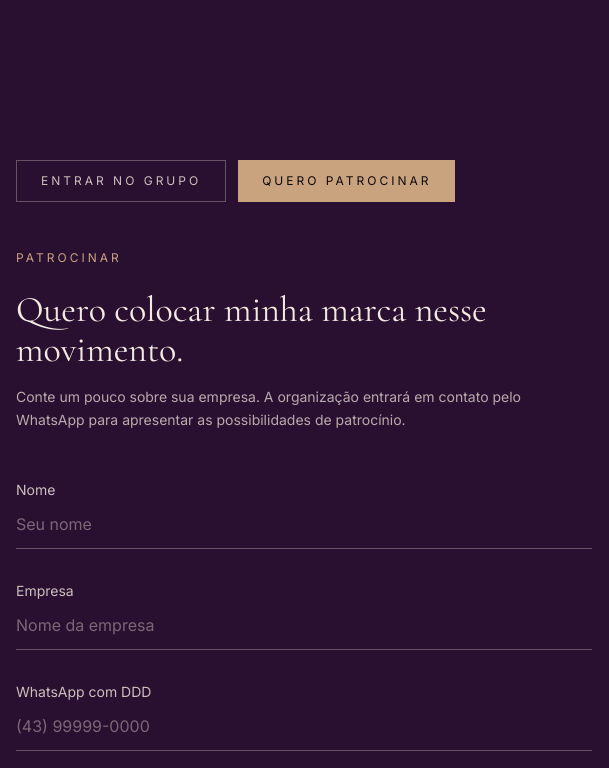
Test case: Interesse › mantém os dados preenchidos se o armazenamento falha
Type "Ana" into the field labelled "Nome".
click(304, 524); type("Ana")  # box [16,500,592,548]
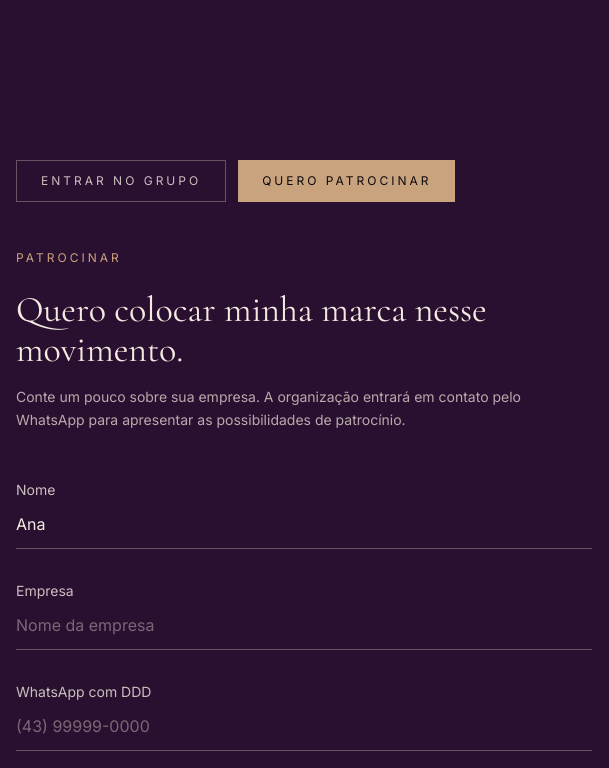
Type "Decol" into the field labelled "Empresa".
click(304, 625); type("Decol")  # box [16,600,592,650]
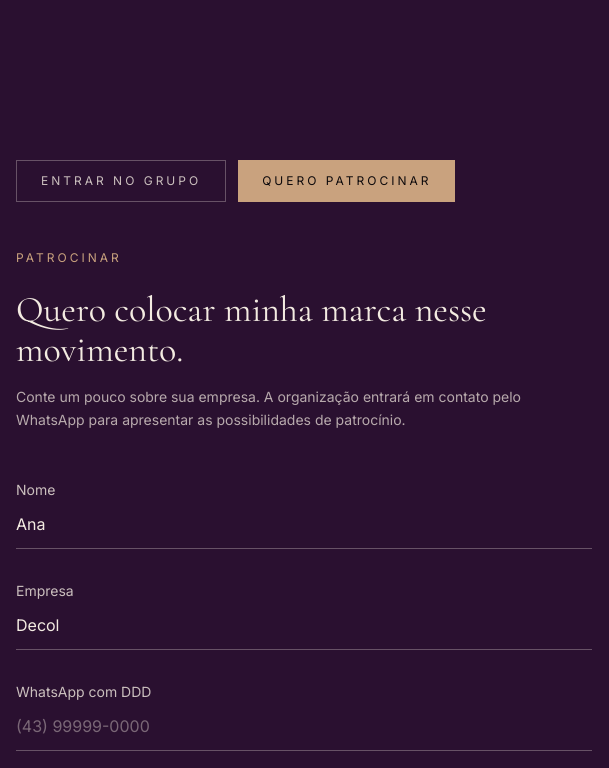
Type "43999990000" into the field labelled "WhatsApp com DDD".
click(304, 726); type("43999990000")  # box [16,702,592,750]
(page scrolled)
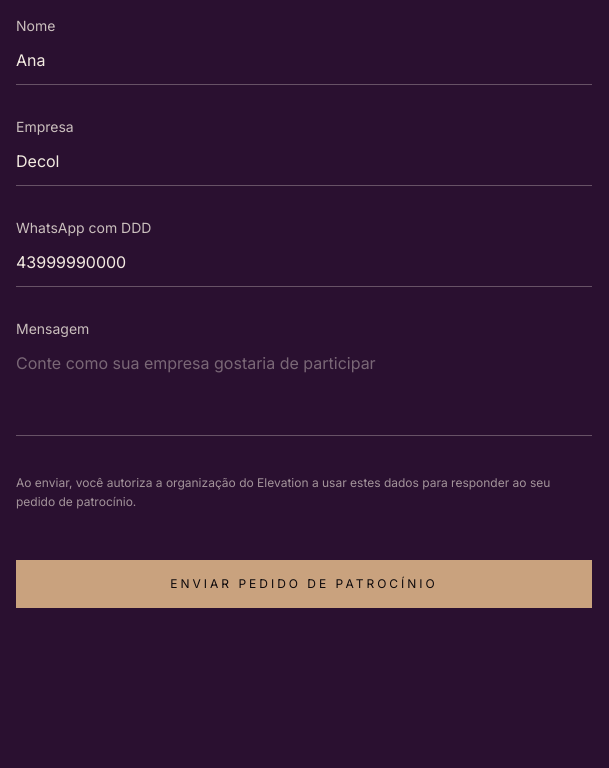
Type "Quero conhecer as cotas." into the text box labelled "Mensagem".
click(304, 387); type("Quero conhecer as cotas.")  # box [16,338,592,436]
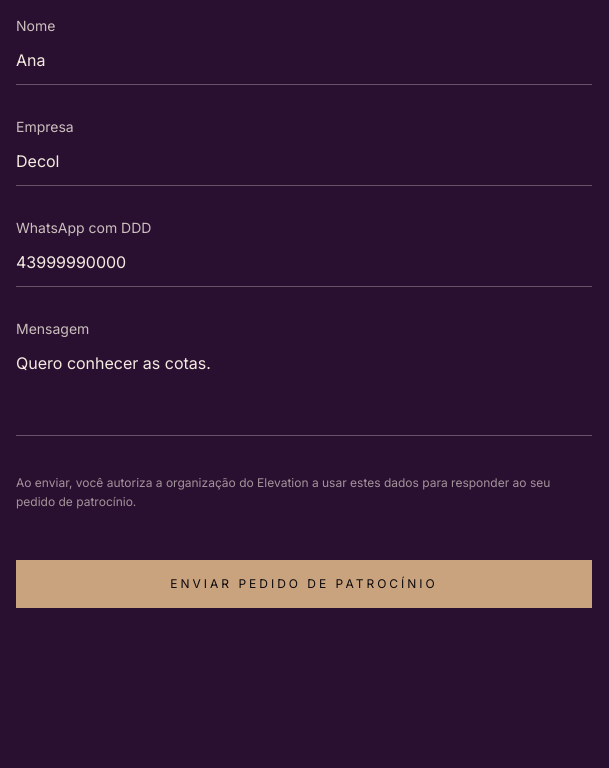
Submit the form
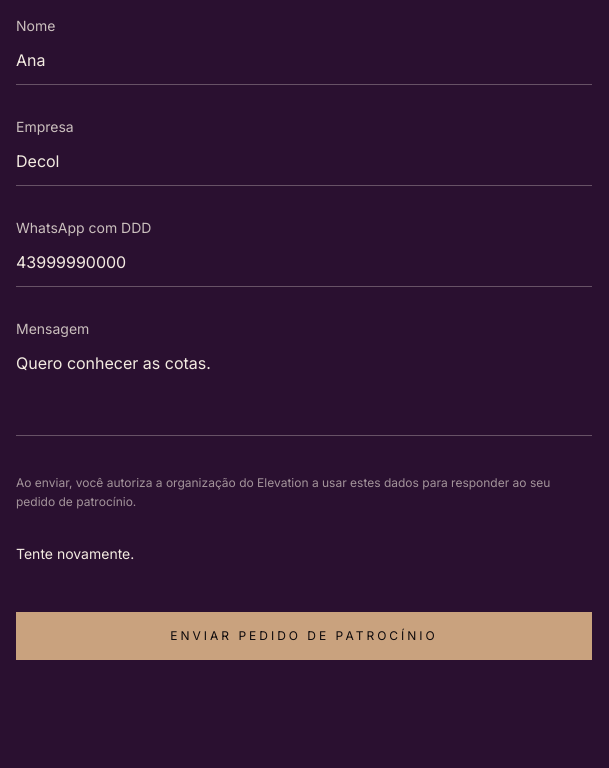
Expected: the message reads "Tente novamente.", [16,544,134,562]
